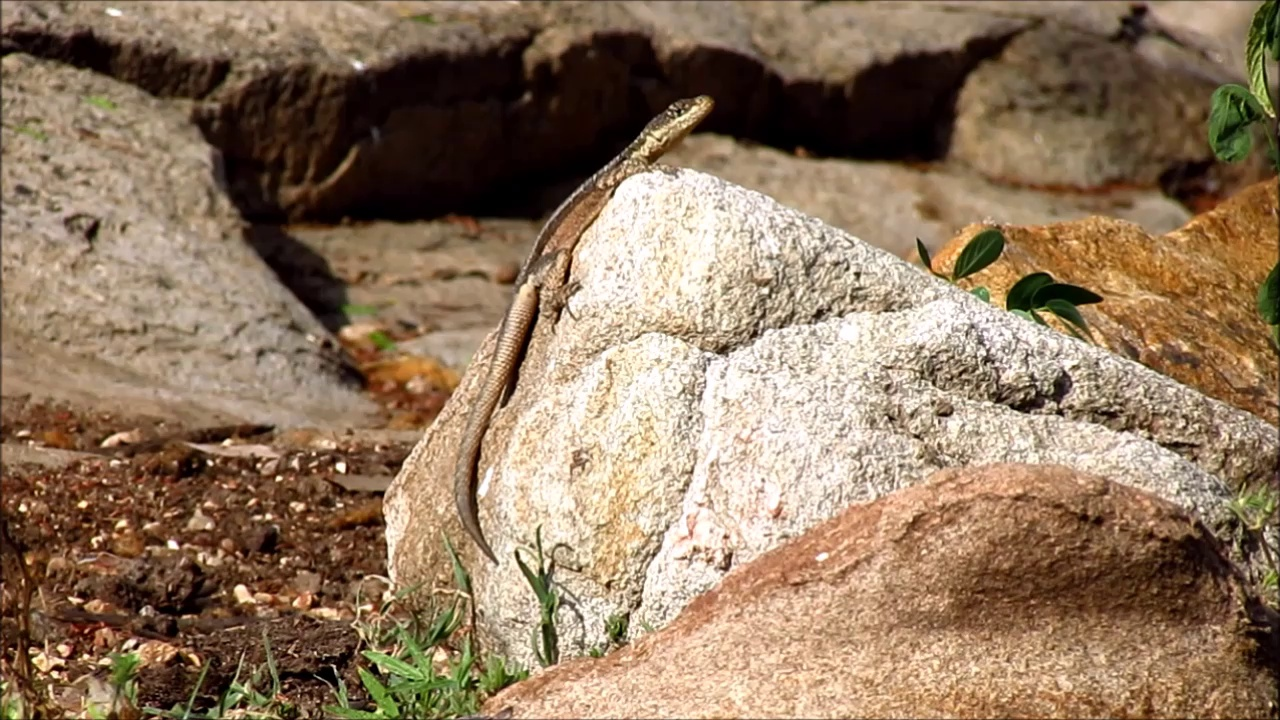body: (456, 136, 638, 567)
head: (638, 94, 715, 152)
